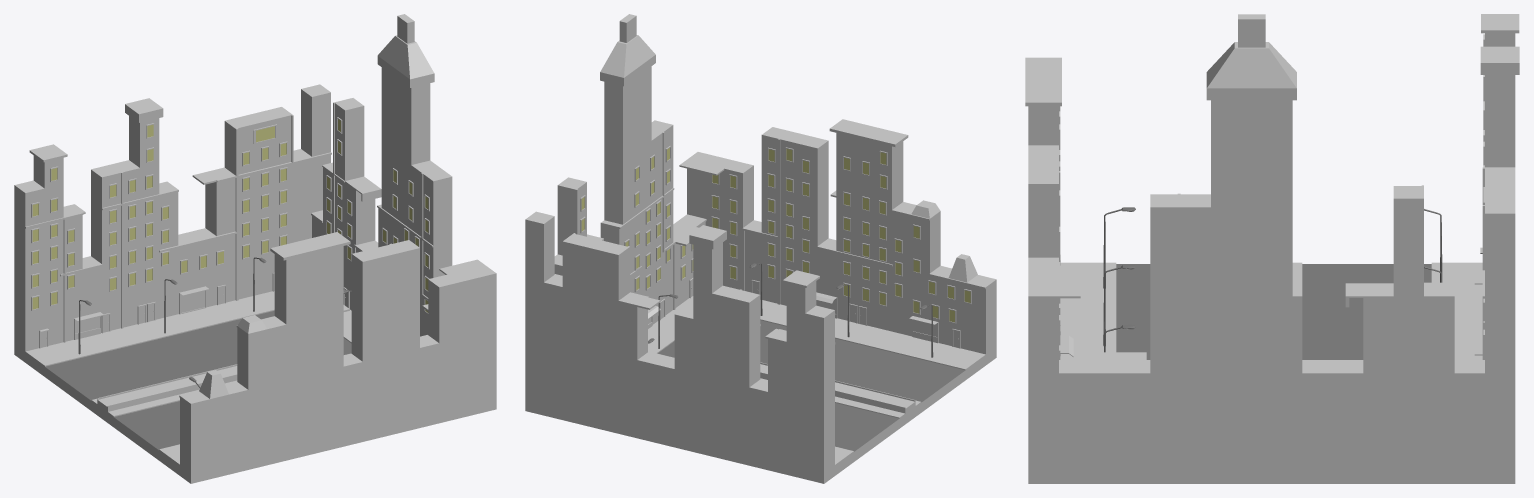
Rendered from Map.fbx.
3 renders of one model, left to right at view 1: azimuth 30°, elevation 25°; view 2: azimuth 150°, elevation 25°; view 3: azimuth 270°, elevation 25°, orthographic. The views are drawn at different scales.
Visible parts, largest first — view 1: Plane, Plane.001, Plane.002, Cube; view 2: Plane, Plane.001, Plane.002, Cube; view 3: Plane, Plane.002, Plane.001, Cube.
Part boxes in pixels (box(x1,y1,x2,y2)): Plane: box(14, 14, 496, 483); Plane.001: box(31, 117, 429, 348); Plane.002: box(45, 310, 351, 449); Cube: box(78, 257, 351, 387); Plane: box(525, 14, 996, 483); Plane.001: box(580, 146, 971, 348); Plane.002: box(658, 320, 964, 451); Cube: box(648, 263, 933, 357); Plane: box(1025, 14, 1519, 483); Plane.002: box(1116, 264, 1431, 359); Plane.001: box(1059, 34, 1484, 359); Cube: box(1103, 207, 1442, 352).
Size of the model in its own units: 4236 by 4384 by 4262.
